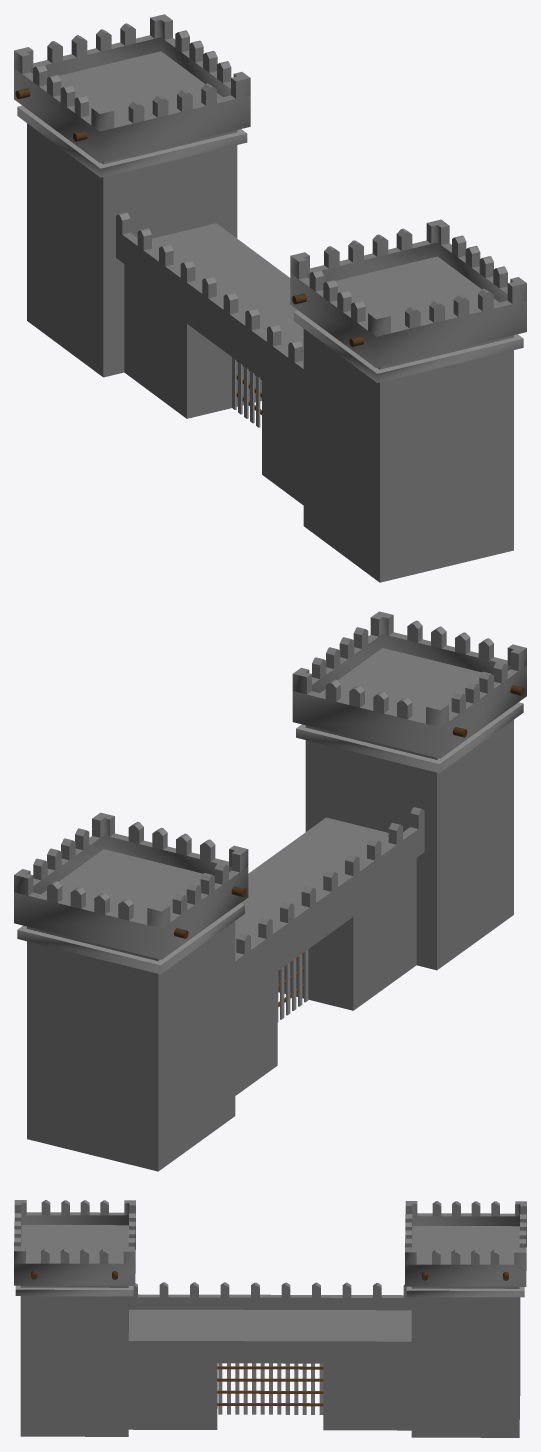
The model's file is Medieval Walls.glb.
3 renders of one model, top to bottom at view 1: azimuth 30°, elevation 25°; view 2: azimuth 150°, elevation 25°; view 3: azimuth 270°, elevation 25°, orthographic. The views are drawn at different scales.
Visible parts, largest first — view 1: id0; view 2: id0; view 3: id0.
Boxes of the visible parts, x1=… form: id0: x1=14, y1=14, x2=526, y2=582; id0: x1=14, y1=611, x2=526, y2=1171; id0: x1=14, y1=1200, x2=526, y2=1437.
Size of the model in its own units: 10.46 by 15.4 by 38.05.
